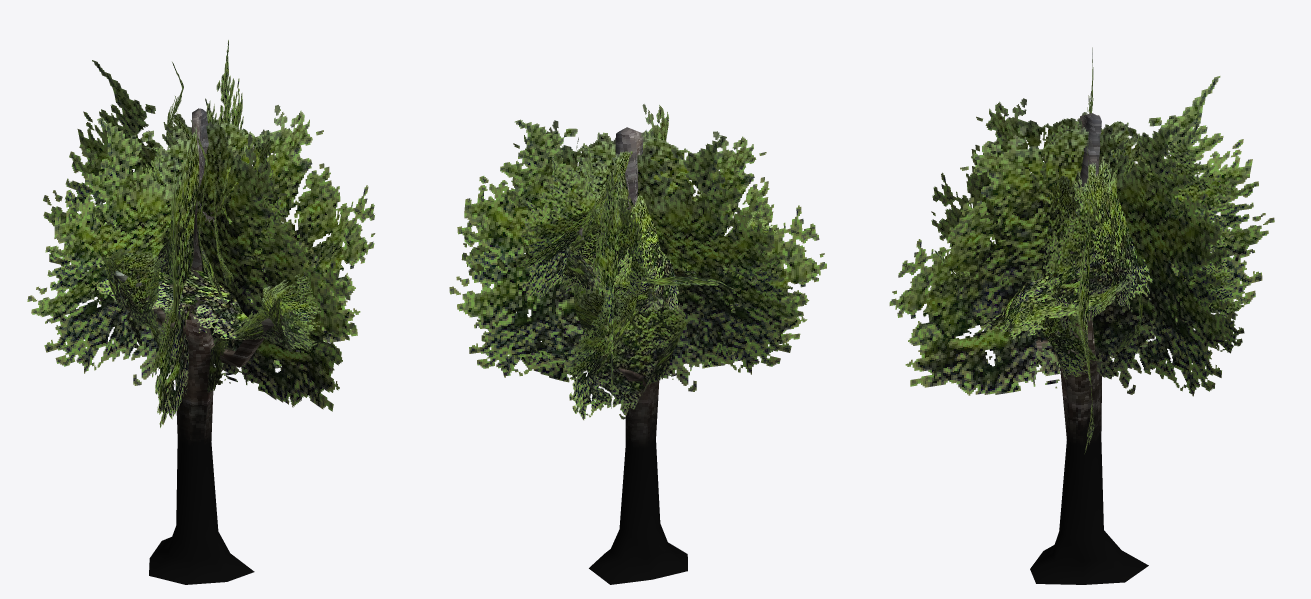
Rendered from GolfTree.glb.
3 renders of one model, left to right at view 1: azimuth 30°, elevation 25°; view 2: azimuth 150°, elevation 25°; view 3: azimuth 270°, elevation 25°, orthographic. The views are drawn at different scales.
Parts seen in each view (by area): view 1: GolfTree; view 2: GolfTree; view 3: GolfTree.
Boxes of the visible parts, x1,y1,x2,y2 form: GolfTree: [27, 40, 375, 584]; GolfTree: [449, 104, 826, 584]; GolfTree: [889, 47, 1274, 584].
Size of the model in its own units: 3.6 by 4.29 by 3.35.
2 materials, 2 textured.
